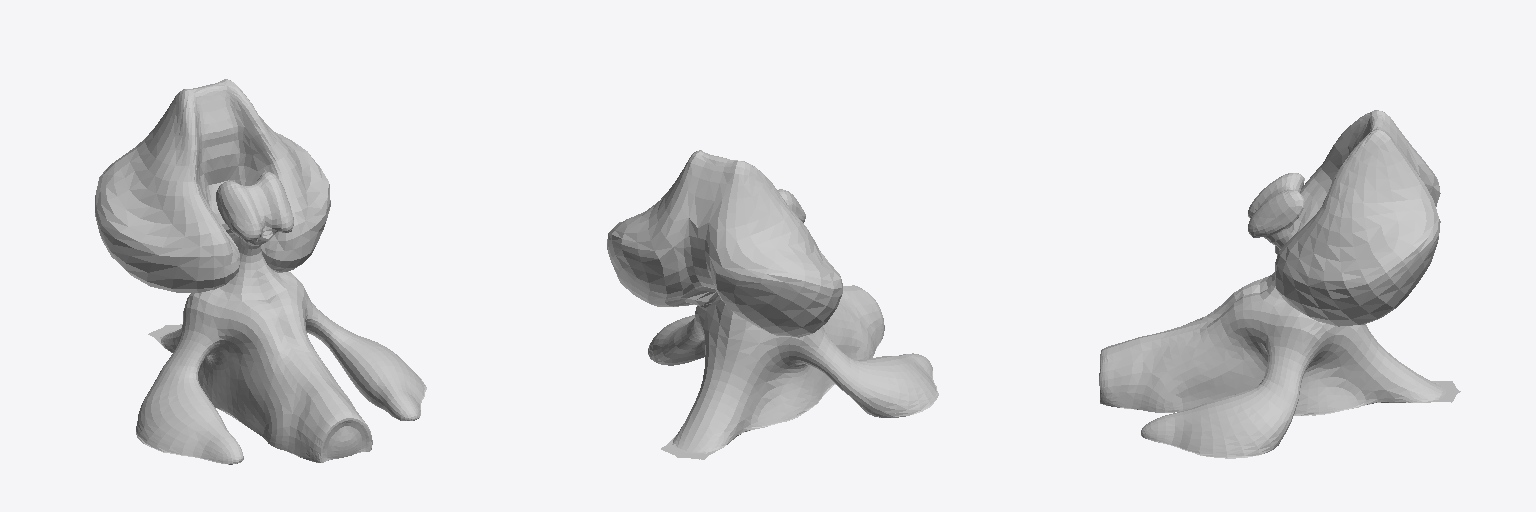
File: Merged_Brainze.OBJ
3 renders of one model, left to right at view 1: azimuth 30°, elevation 25°; view 2: azimuth 150°, elevation 25°; view 3: azimuth 270°, elevation 25°, orthographic.
Visible parts, largest first — view 1: Group34651, Group16563, Group34721; view 2: Group16563, Group34651; view 3: Group34651, Group16563.
Boxes of the visible parts, <box> form: Group34651: <box>136,172,426,464</box>; Group16563: <box>95,79,330,292</box>; Group34721: <box>251,248,276,299</box>; Group16563: <box>607,150,842,337</box>; Group34651: <box>648,189,938,459</box>; Group34651: <box>1099,173,1459,457</box>; Group16563: <box>1275,110,1440,326</box>.
Size of the model in its own units: 0.0123 by 0.0116 by 0.014.